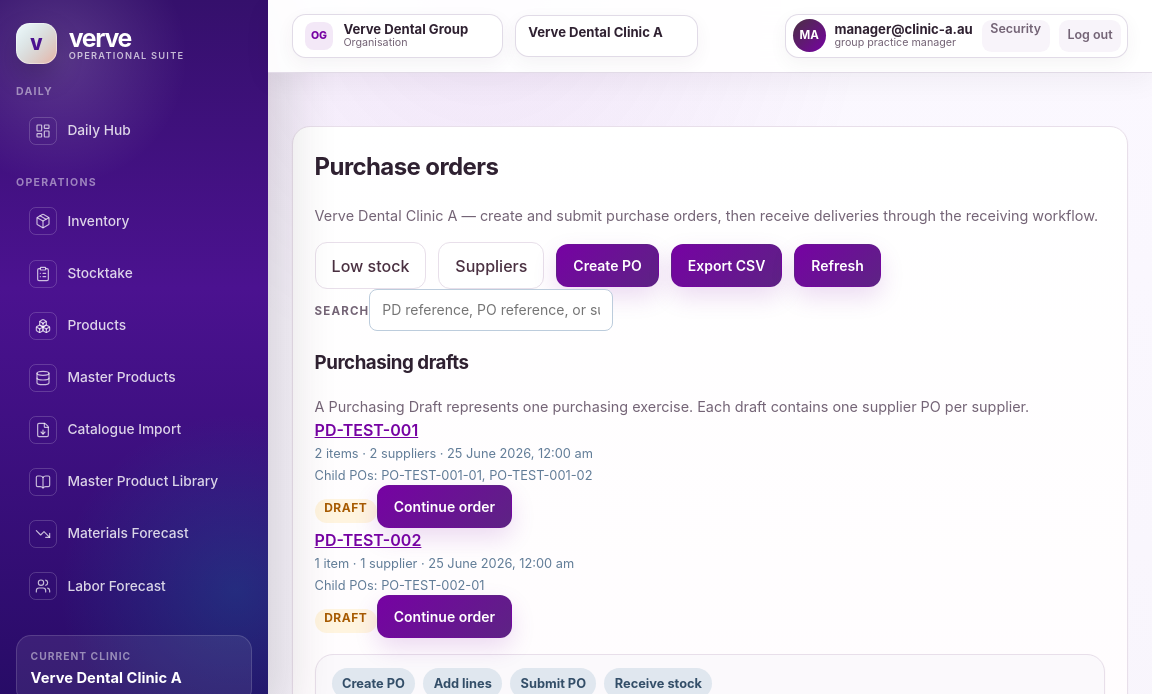
Test: PurchaseOrdersPage › search › TEST 1 — searching by PD reference shows that PD and its child POs; unrelated documents are hidden
The width and height of the screenshot is (1152, 694).
Type "PD-TEST-001" into the field named "search purchase orders" at (491, 310), box x1=369 y1=289 x2=613 y2=331
(page scrolled)
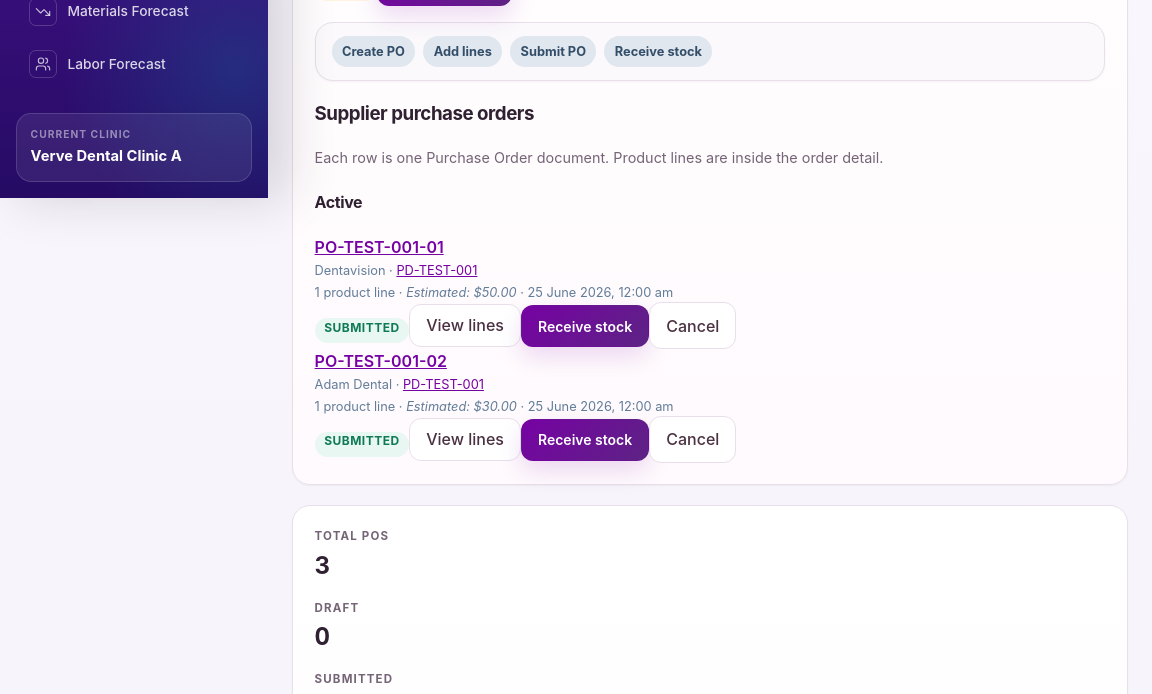
Expected: the link "PO-TEST-001-01" is shown, x1=315 y1=237 x2=444 y2=257
Result: the link "PD-TEST-002" is gone
